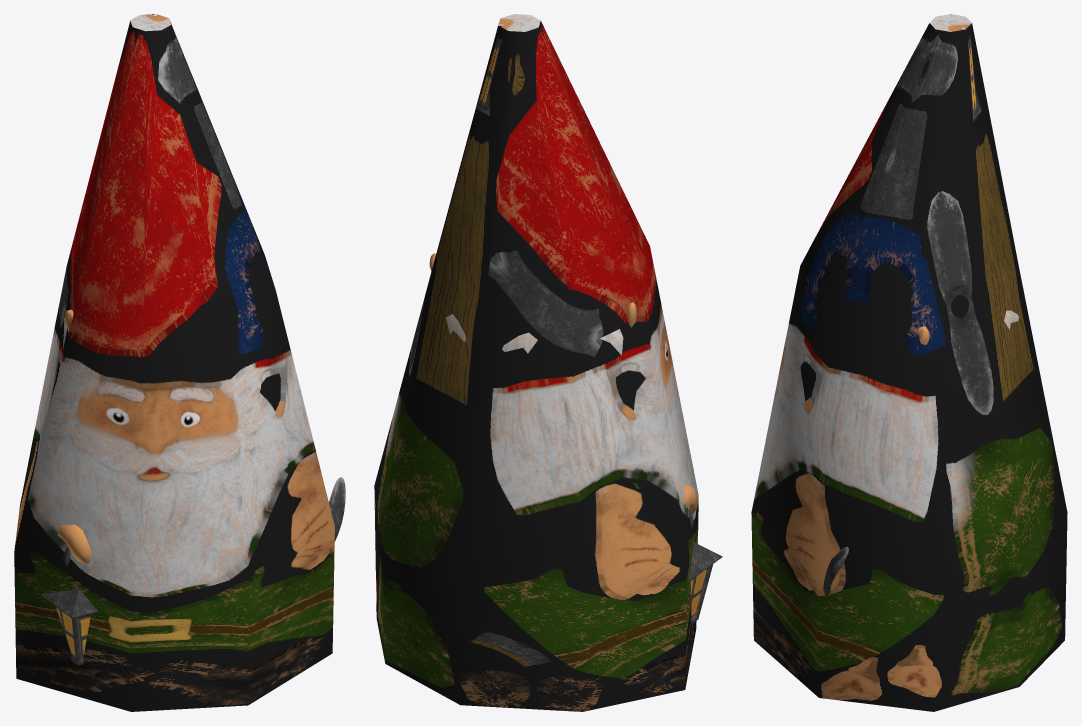
Rendered from garden_gnome_B.FBX.
3 renders of one model, left to right at view 1: azimuth 30°, elevation 25°; view 2: azimuth 150°, elevation 25°; view 3: azimuth 270°, elevation 25°, orthographic. The views are drawn at different scales.
Parts seen in each view (by area): view 1: garden_gnome_B_COL, garden_gnome_B_LOD0; view 2: garden_gnome_B_COL, garden_gnome_B_LOD0; view 3: garden_gnome_B_COL, garden_gnome_B_LOD0.
Part boxes in pixels (box(x1,y1,x2,y2)): garden_gnome_B_COL: box(14, 14, 334, 711); garden_gnome_B_LOD0: box(33, 309, 345, 665); garden_gnome_B_COL: box(374, 14, 698, 711); garden_gnome_B_LOD0: box(429, 253, 722, 624); garden_gnome_B_COL: box(751, 14, 1067, 711); garden_gnome_B_LOD0: box(813, 310, 1018, 595).
Size of what is drawn, in the model's own units: 24.81 by 49.62 by 22.73.
